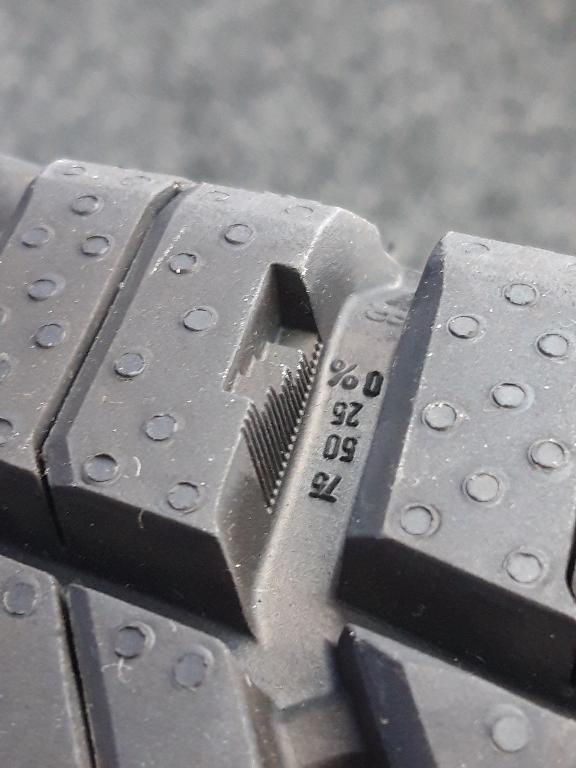temoin:100: (214, 258, 329, 518)
